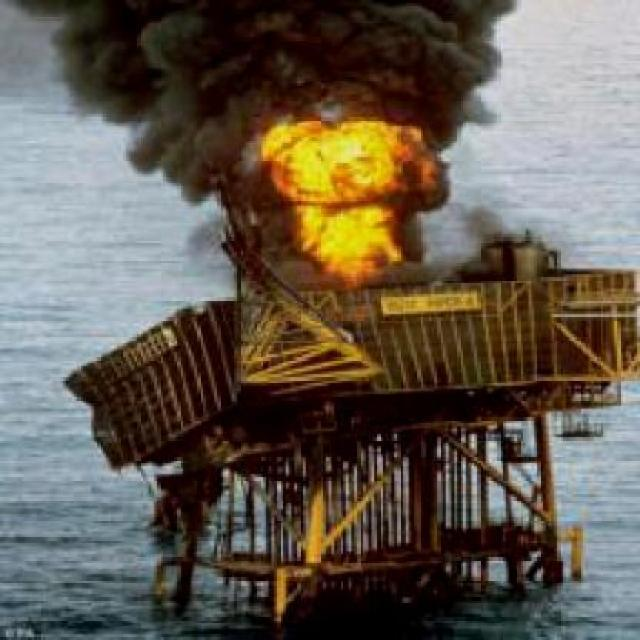Fire: (246, 109, 446, 286)
Smoke: (0, 0, 518, 109)
